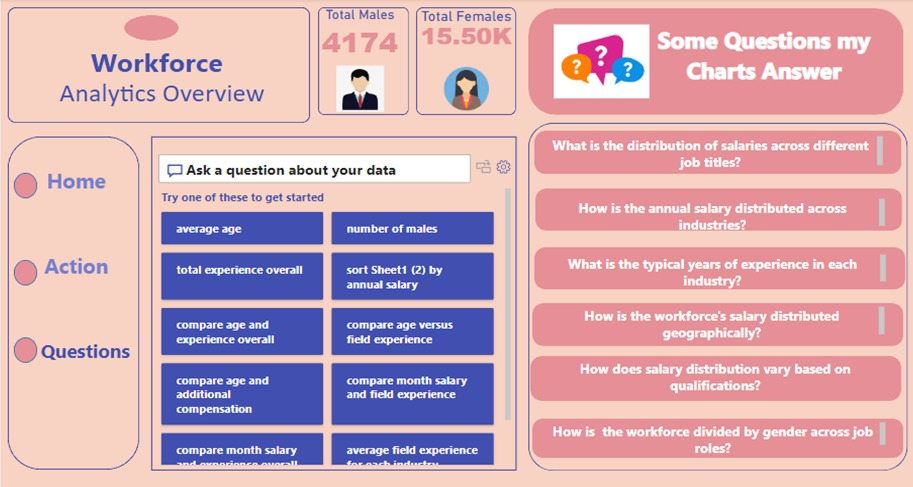

This screenshot's page, from the dashboard's own definition file:
{"tool":"powerbi","page":{"name":"Questions","canvas":[1280,720],"ordinal":2},"visuals":[{"type":"shape","box":[10,12.9,184.5,669.3],"z":0},{"type":"shape","box":[211.2,12.8,222.5,155.9],"z":1000},{"type":"shape","box":[444.8,12.9,127.3,155.9],"z":2000},{"type":"shape","box":[582.1,12.9,140.2,155.9],"z":3000},{"type":"shape","box":[739.4,180.2,532,503.4],"z":4000},{"type":"textbox","box":[211.2,60.9,233.9,119.1],"z":5000},{"type":"textbox","box":[211.2,107.7,222.5,208.3],"z":6000},{"type":"shape","box":[296,24.3,77.2,37.2],"z":7000},{"type":"card","title":"Total Males","fields":{"Values":["CountNonNull(Sheet1 (2).Male)"]},"box":[444.8,11.4,117.3,80.1],"z":8000},{"type":"card","title":"Total Females","fields":{"Values":["CountNonNull(Sheet1 (2).Female)"]},"box":[582.1,14.3,140.2,93],"z":9000},{"type":"image","box":[515.9,199.8,112,123.3],"z":10000},{"type":"image","box":[582.1,91.5,140.2,77.2],"z":11000},{"type":"actionButton","title":"Home","box":[51,96.4,109.1,53.9],"z":12000},{"type":"shape","box":[18.4,104.9,32.6,36.9],"z":13000},{"type":"actionButton","title":"Home","box":[51,406.8,134.6,51],"z":14000},{"type":"actionButton","title":"Home","box":[51,251.6,109.1,53.9],"z":15000},{"type":"qnaVisual","box":[211.7,180.2,510.6,502],"z":16000},{"type":"shape","box":[748,191.6,514.9,62.9],"z":17000},{"type":"textbox","box":[756.6,194.5,484.8,62.9],"z":18000},{"type":"shape","box":[748.3,335.9,514.5,60.9],"z":19000},{"type":"shape","box":[745.5,406.8,520.2,60.9],"z":20000},{"type":"shape","box":[739.4,14.3,526.3,154.5],"z":21000},{"type":"shape","box":[742.7,477.6,520.2,62.4],"z":22000},{"type":"shape","box":[742.7,549.9,520.2,65.2],"z":23000},{"type":"textbox","box":[761.1,335.9,484.7,60.9],"z":24000},{"type":"textbox","box":[761.1,406.8,487.6,60.9],"z":25000},{"type":"textbox","box":[759.7,477.6,486.1,62.4],"z":26000},{"type":"textbox","box":[769.6,549.9,476.2,65.2],"z":27000},{"type":"shape","box":[742.3,625,520.6,57.2],"z":28000},{"type":"textbox","box":[759.4,625,486.3,57.2],"z":29000},{"type":"image","box":[446.2,91.5,115.8,77.2],"z":30000},{"type":"textbox","box":[891,32.9,357.5,117.3],"z":31000},{"type":"image","box":[769.4,32.9,145.9,117.3],"z":32000},{"type":"shape","box":[18.4,262.2,32.6,36.9],"z":33000},{"type":"shape","box":[18.4,413.9,32.6,36.9],"z":34000}]}

Visuals, with their boxes on the page's 1280x720 design canvas (x1, y1, x2, y2). These are canvas units, not pixel positions in the 913x487 screenshot, which may show the page scaled, cropped or inside an application window:
shape: crop(10, 13, 194, 682)
shape: crop(211, 13, 434, 169)
shape: crop(445, 13, 572, 169)
shape: crop(582, 13, 722, 169)
shape: crop(739, 180, 1271, 684)
textbox: crop(211, 61, 445, 180)
textbox: crop(211, 108, 434, 316)
shape: crop(296, 24, 373, 62)
"Total Males" card: crop(445, 11, 562, 92)
"Total Females" card: crop(582, 14, 722, 107)
image: crop(516, 200, 628, 323)
image: crop(582, 92, 722, 169)
"Home" actionButton: crop(51, 96, 160, 150)
shape: crop(18, 105, 51, 142)
"Home" actionButton: crop(51, 407, 186, 458)
"Home" actionButton: crop(51, 252, 160, 306)
qnaVisual: crop(212, 180, 722, 682)
shape: crop(748, 192, 1263, 254)
textbox: crop(757, 194, 1241, 257)
shape: crop(748, 336, 1263, 397)
shape: crop(746, 407, 1266, 468)
shape: crop(739, 14, 1266, 169)
shape: crop(743, 478, 1263, 540)
shape: crop(743, 550, 1263, 615)
textbox: crop(761, 336, 1246, 397)
textbox: crop(761, 407, 1249, 468)
textbox: crop(760, 478, 1246, 540)
textbox: crop(770, 550, 1246, 615)
shape: crop(742, 625, 1263, 682)
textbox: crop(759, 625, 1246, 682)
image: crop(446, 92, 562, 169)
textbox: crop(891, 33, 1248, 150)
image: crop(769, 33, 915, 150)
shape: crop(18, 262, 51, 299)
shape: crop(18, 414, 51, 451)
